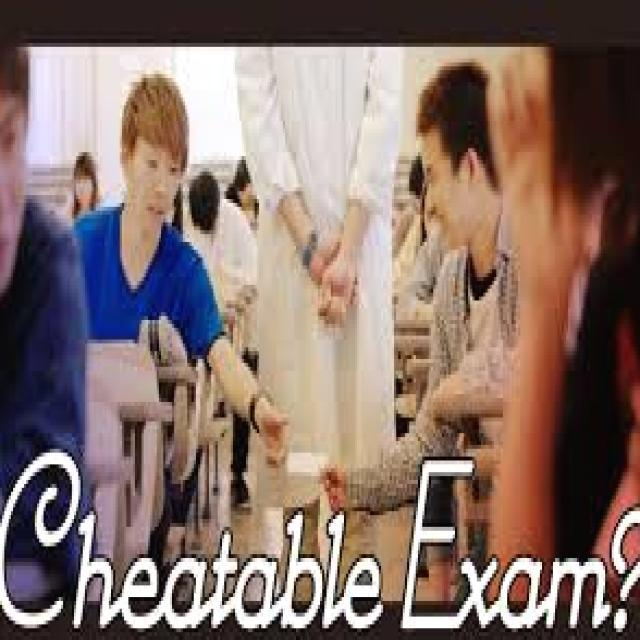cheating: (56, 60, 242, 356), (226, 366, 417, 526), (406, 47, 509, 279)
